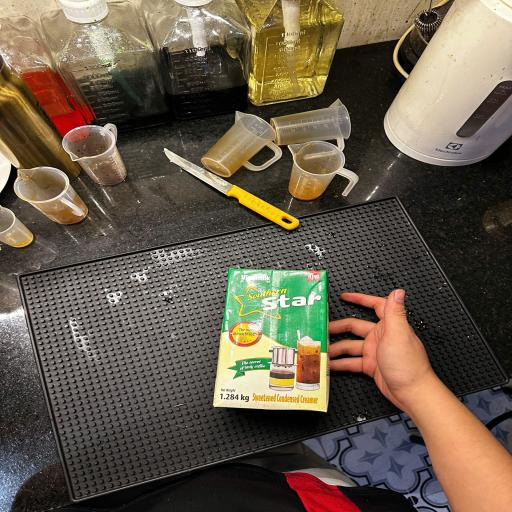sua_dac: (211, 250, 352, 422)
